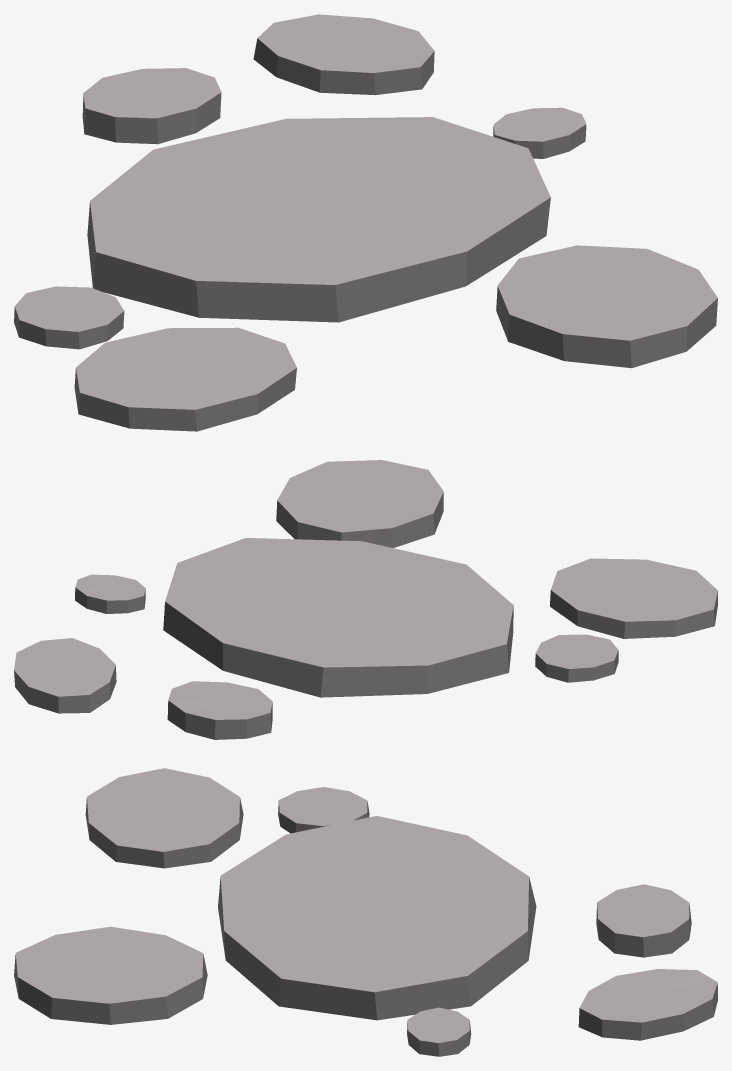
Rendered from Chemin_cailloux_V1.fbx.
3 renders of one model, top to bottom at view 1: azimuth 30°, elevation 25°; view 2: azimuth 150°, elevation 25°; view 3: azimuth 270°, elevation 25°, orthographic. The views are drawn at different scales.
Parts seen in each view (by area): view 1: Icosphere.002; view 2: Icosphere.002; view 3: Icosphere.002.
Boxes of the visible parts, left/top/right/bottom form: Icosphere.002: left=14, top=14, right=717, bottom=431; Icosphere.002: left=14, top=460, right=717, bottom=739; Icosphere.002: left=14, top=768, right=717, bottom=1056.
Bounding box in the file's own units: 109 × 5.78 × 119.
